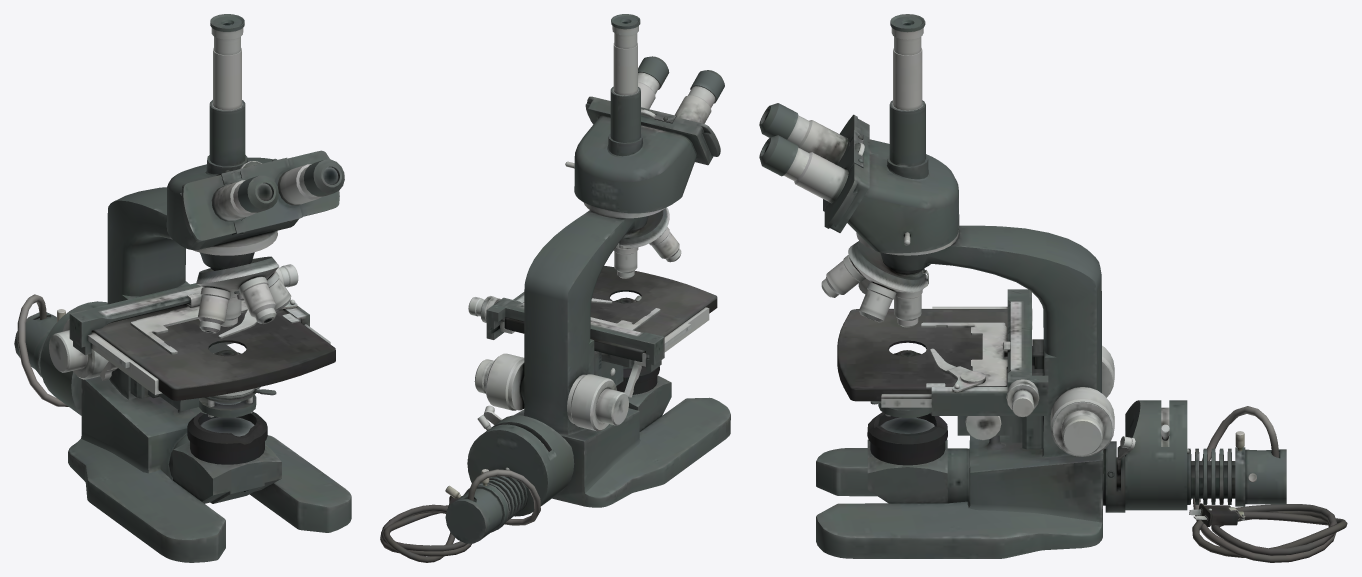
File: microscope_big.glb
3 renders of one model, left to right at view 1: azimuth 30°, elevation 25°; view 2: azimuth 150°, elevation 25°; view 3: azimuth 270°, elevation 25°, orthographic. The views are drawn at different scales.
Visible parts, largest first — view 1: industrial_microscope_cable; view 2: industrial_microscope_cable; view 3: industrial_microscope_cable.
Boxes of the visible parts, bbox=[...] form: industrial_microscope_cable: bbox=[14, 14, 351, 562]; industrial_microscope_cable: bbox=[380, 14, 730, 562]; industrial_microscope_cable: bbox=[759, 14, 1347, 562].
Size of the model in its own units: 0.2145 by 0.4617 by 0.4981.
1 material, 1 textured.
